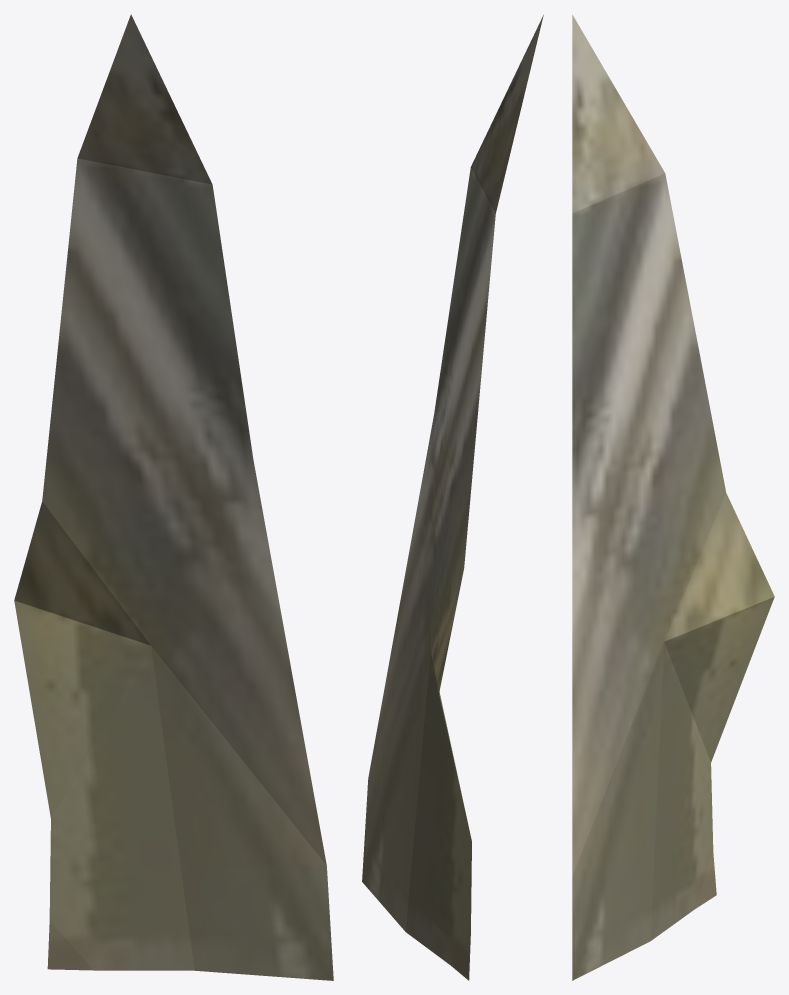
3 renders of one model, left to right at view 1: azimuth 30°, elevation 25°; view 2: azimuth 150°, elevation 25°; view 3: azimuth 270°, elevation 25°, orthographic. The views are drawn at different scales.
Bounding box in the file's own units: 0.5935 × 2.84 × 0.5927.
Materials: 1 (1 with a texture image).
